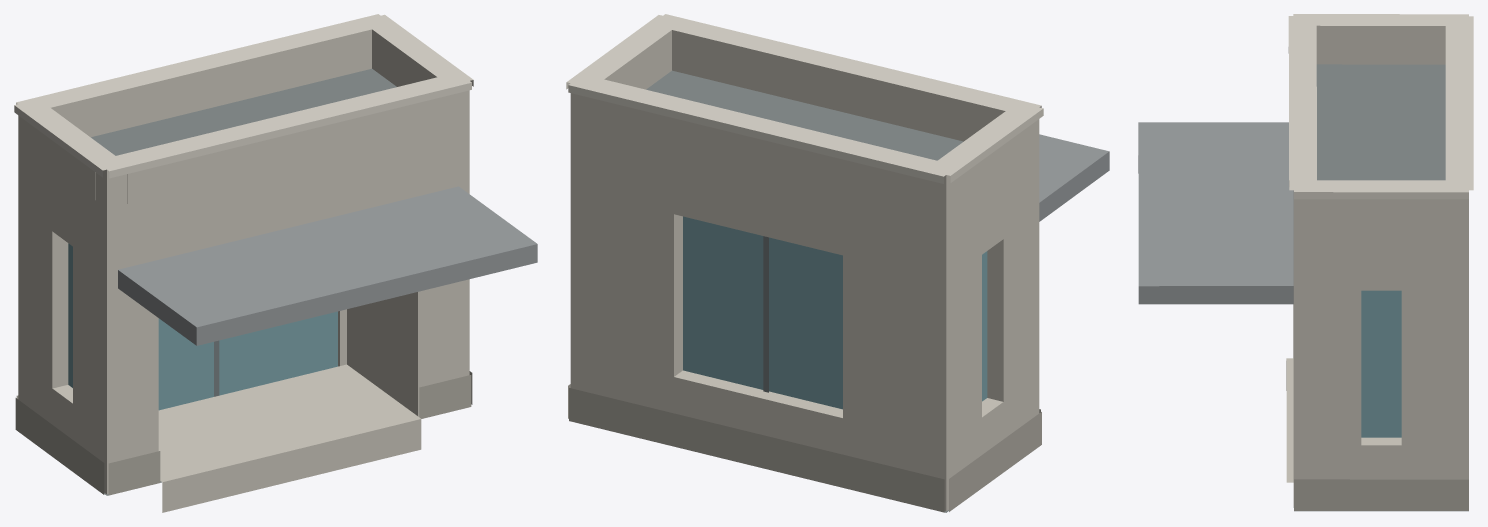
The picture shows the model from 3 angles, left to right: view 1: azimuth 30°, elevation 25°; view 2: azimuth 150°, elevation 25°; view 3: azimuth 270°, elevation 25°; orthographic projection. The views are drawn at different scales.
Parts seen in each view (by area): view 1: aux1385686358__wall, aux1385686358__canopy, aux1385686358__parapet, aux1385686358__entranceThreshold_0, aux1385686358__trim, aux1385686358__glass, aux1385686358__roof, aux1385686358__base; view 2: aux1385686358__wall, aux1385686358__parapet, aux1385686358__glass, aux1385686358__trim, aux1385686358__base, aux1385686358__roof, aux1385686358__canopy, aux1385686358__frame; view 3: aux1385686358__wall, aux1385686358__canopy, aux1385686358__roof, aux1385686358__trim, aux1385686358__parapet, aux1385686358__glass, aux1385686358__base, aux1385686358__entranceThreshold_0.
Boxes of the visible parts, box(x1,y1,x2,y2) form: aux1385686358__wall: box(18, 120, 469, 494); aux1385686358__canopy: box(118, 186, 537, 345); aux1385686358__parapet: box(18, 29, 469, 208); aux1385686358__entranceThreshold_0: box(158, 364, 421, 512); aux1385686358__trim: box(14, 14, 473, 178); aux1385686358__glass: box(68, 243, 337, 410); aux1385686358__roof: box(91, 68, 396, 495); aux1385686358__base: box(15, 371, 472, 495); aux1385686358__wall: box(570, 124, 1039, 511); aux1385686358__parapet: box(570, 30, 1039, 215); aux1385686358__glass: box(683, 216, 987, 409); aux1385686358__trim: box(566, 14, 1043, 183); aux1385686358__base: box(568, 384, 1041, 512); aux1385686358__roof: box(646, 70, 963, 512); aux1385686358__canopy: box(1039, 134, 1109, 221); aux1385686358__frame: box(763, 236, 768, 392); aux1385686358__wall: box(1293, 226, 1468, 506); aux1385686358__canopy: box(1138, 122, 1293, 304); aux1385686358__roof: box(1293, 64, 1468, 511); aux1385686358__trim: box(1288, 14, 1473, 199); aux1385686358__parapet: box(1293, 25, 1468, 228); aux1385686358__glass: box(1361, 290, 1401, 437); aux1385686358__base: box(1294, 479, 1468, 510); aux1385686358__entranceThreshold_0: box(1286, 358, 1293, 482).
Size of the model in its own units: 5.44 by 4.95 by 4.32.
